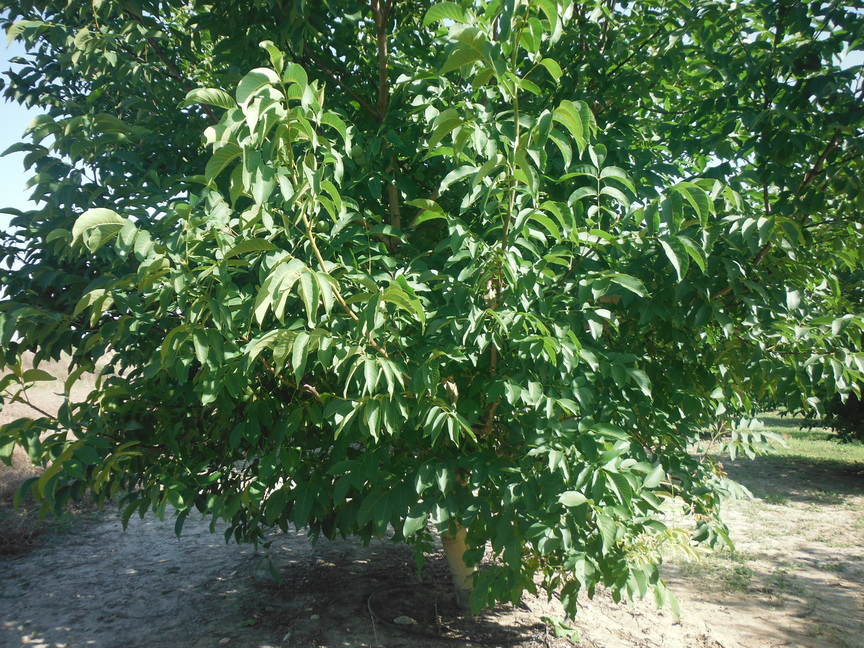walnut: (315, 218, 332, 236), (834, 348, 849, 363), (350, 143, 363, 159), (532, 459, 544, 474), (354, 153, 366, 167), (360, 33, 372, 47)
